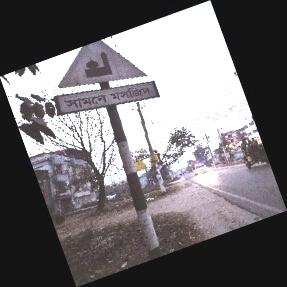Mosque in front: (55, 39, 157, 115)
